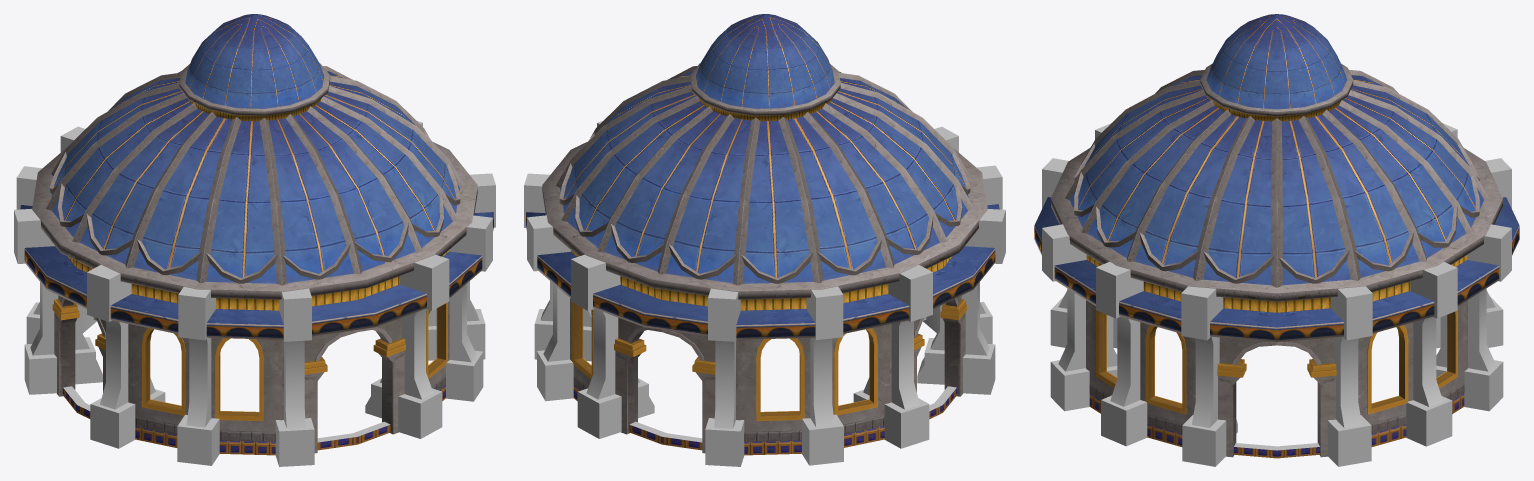
File: Battle02_01_Pavilion.fbx
3 renders of one model, left to right at view 1: azimuth 30°, elevation 25°; view 2: azimuth 150°, elevation 25°; view 3: azimuth 270°, elevation 25°, orthographic.
Visible parts, largest first — view 1: NewBattle03_IntWall01_03; view 2: NewBattle03_IntWall01_03; view 3: NewBattle03_IntWall01_03.
Part boxes in pixels (left/top/right/bottom): NewBattle03_IntWall01_03: left=14, top=14, right=495, bottom=466; NewBattle03_IntWall01_03: left=524, top=14, right=1005, bottom=466; NewBattle03_IntWall01_03: left=1034, top=14, right=1519, bottom=466.
Bounding box in the file's own units: 24.08 × 24.15 × 19.65.
